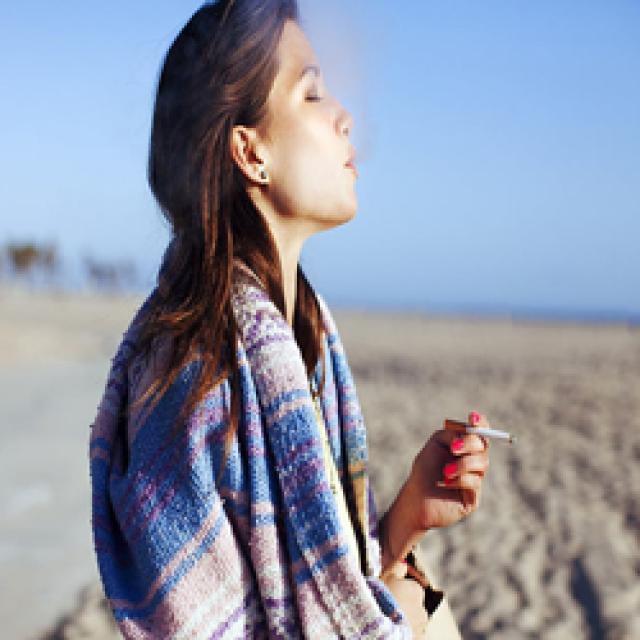Smooking: (441, 413, 522, 447)
